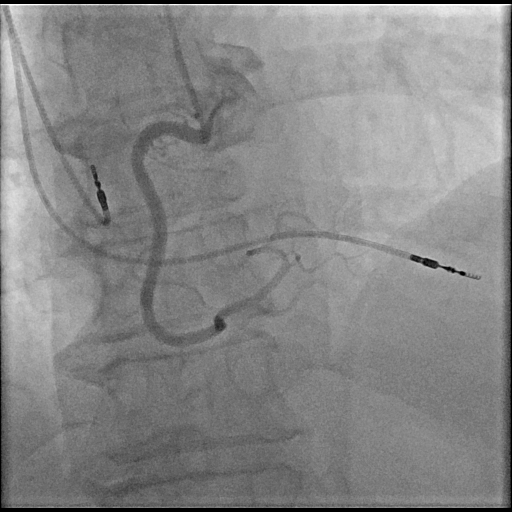RCA: (132, 122, 288, 346)
catherter: (164, 8, 207, 131)
